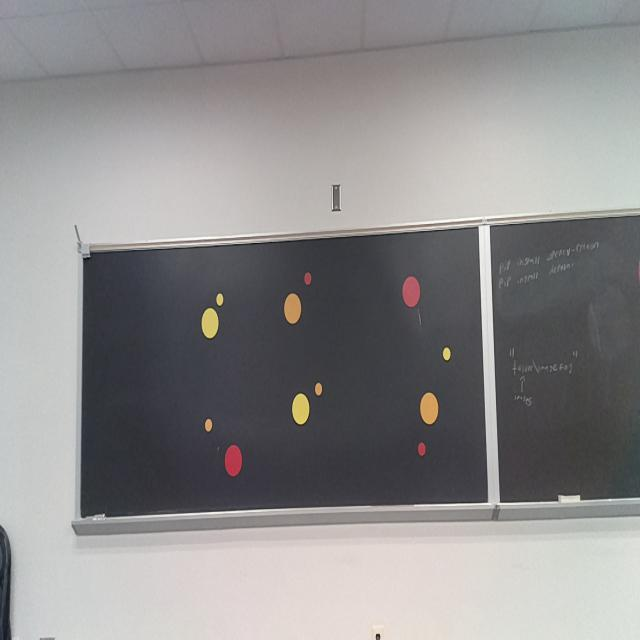Orange: (419, 390, 438, 424), (284, 292, 302, 326), (315, 382, 322, 397), (205, 418, 212, 433)
Red: (402, 276, 421, 310), (224, 443, 242, 478), (304, 271, 312, 287), (418, 442, 426, 457)
Yellow: (200, 306, 220, 341), (292, 392, 310, 426), (443, 346, 450, 362), (216, 291, 223, 306)
